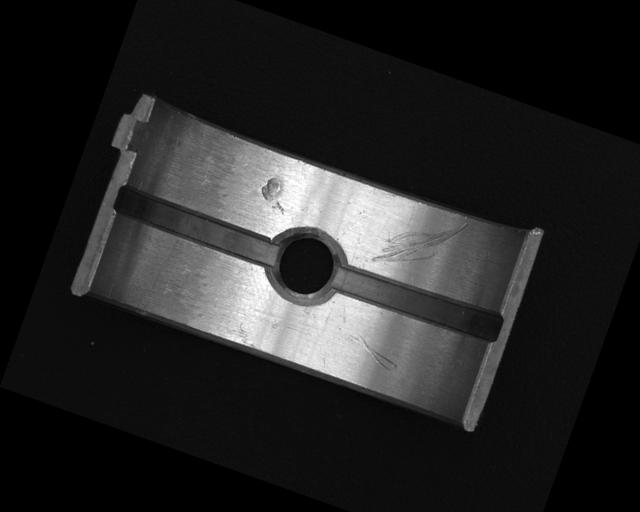bruise: (255, 174, 294, 214)
gap: (328, 257, 504, 347), (111, 185, 283, 271)
hole: (260, 221, 348, 311)
nick: (369, 196, 467, 287), (345, 331, 403, 374)
